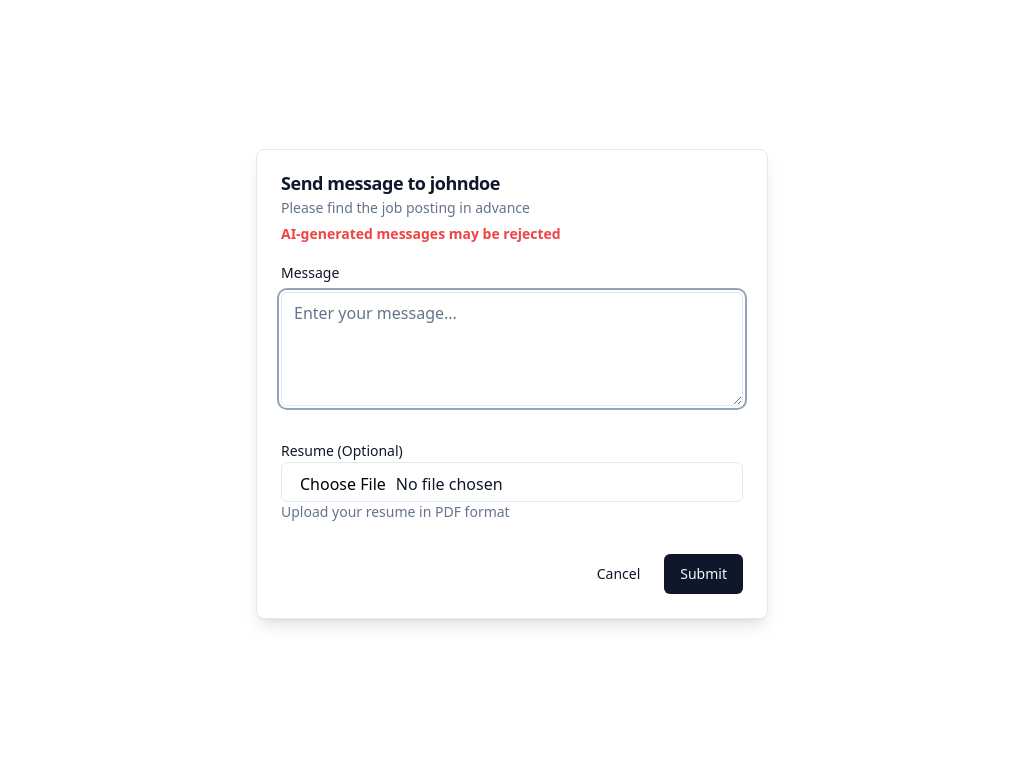
it: ContactDialog › Form Validation › should show error for message less than 50 characters
The image size is (1024, 768).
Type "Short message" into the text box.
click(512, 349); type("Short message")  # box x1=281 y1=292 x2=743 y2=406
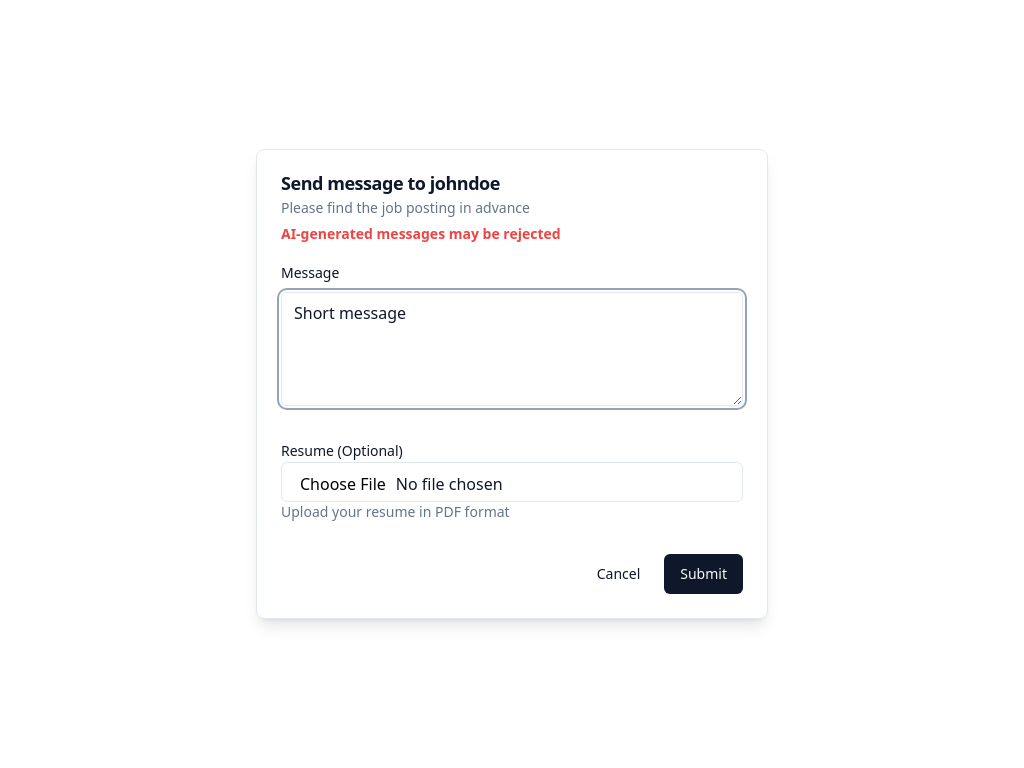
Click the button "Submit".
click(704, 574)  # box x1=664 y1=554 x2=743 y2=594
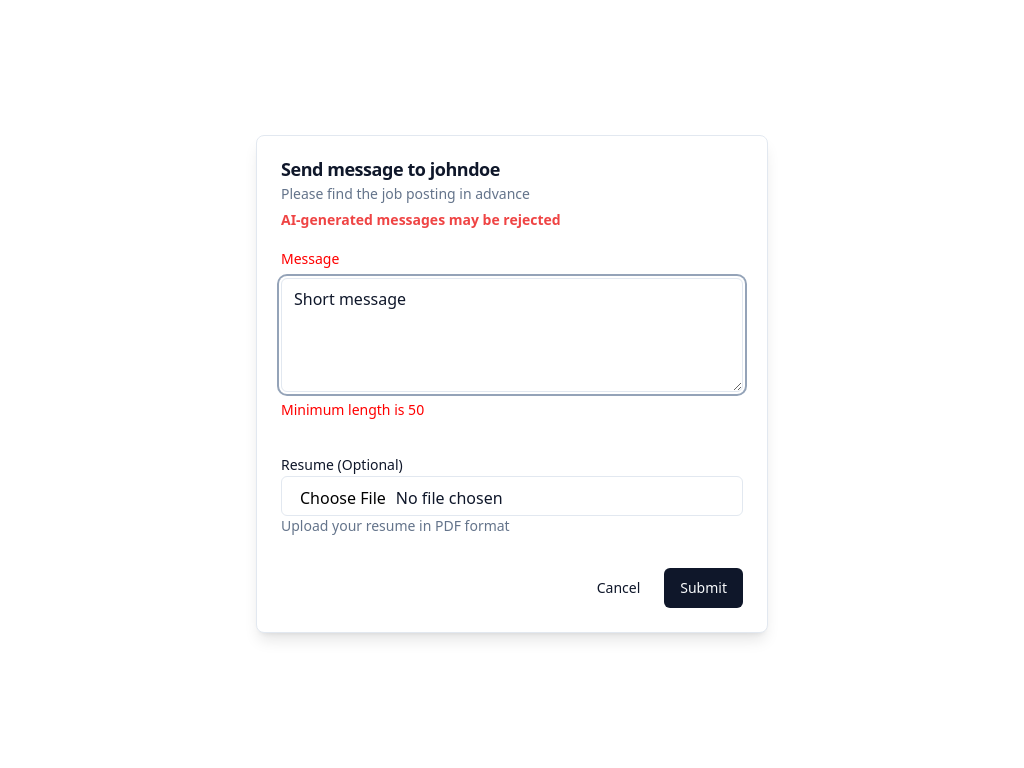
Expected: the text "Minimum length is 50" is shown, x1=281 y1=400 x2=424 y2=419
